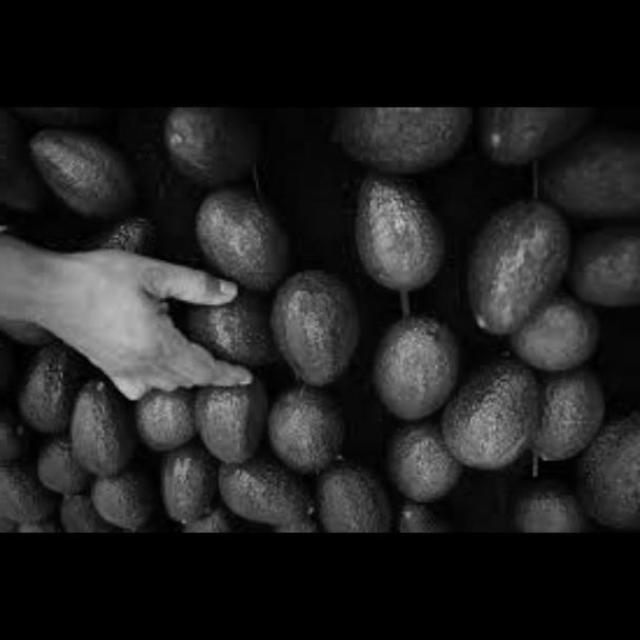avocado: (338, 176, 449, 321), (456, 199, 563, 342), (1, 129, 142, 229), (541, 109, 640, 237), (258, 278, 365, 394), (128, 108, 268, 195), (196, 195, 309, 296), (447, 359, 540, 470), (358, 324, 467, 417), (570, 401, 640, 534), (560, 210, 640, 326), (463, 109, 600, 175), (381, 416, 472, 510), (56, 371, 132, 480), (325, 108, 454, 172), (520, 387, 602, 478), (305, 455, 396, 534), (192, 374, 261, 474), (514, 305, 608, 377), (212, 460, 310, 529), (272, 404, 351, 489), (131, 388, 202, 473), (147, 448, 209, 525), (1, 462, 54, 534), (75, 485, 144, 534), (506, 493, 587, 534)
